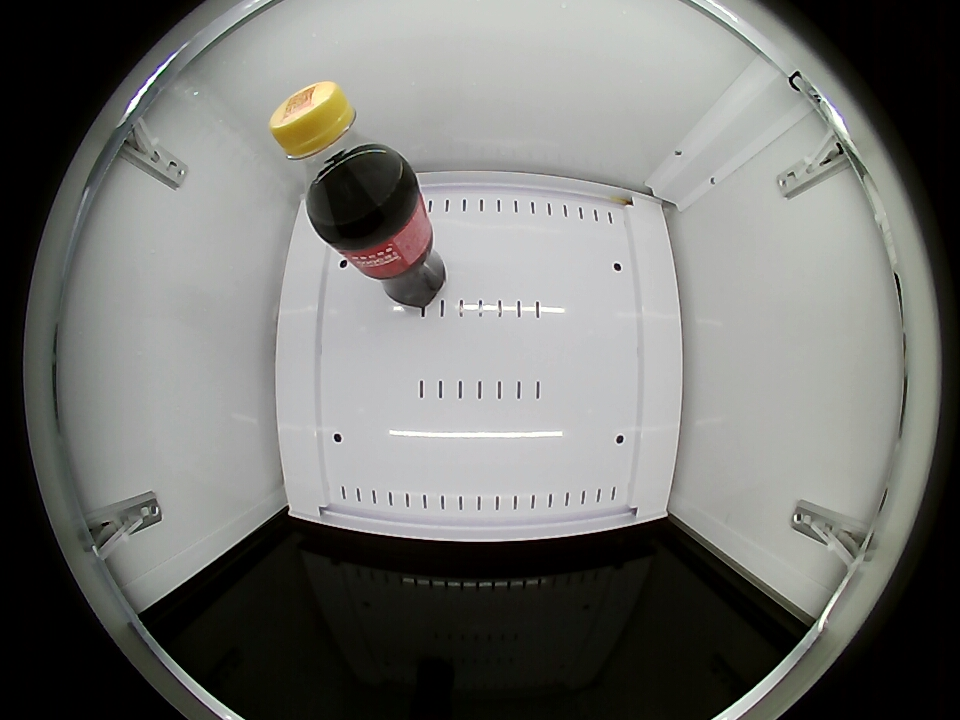kele-b-2: (269, 81, 404, 220)
